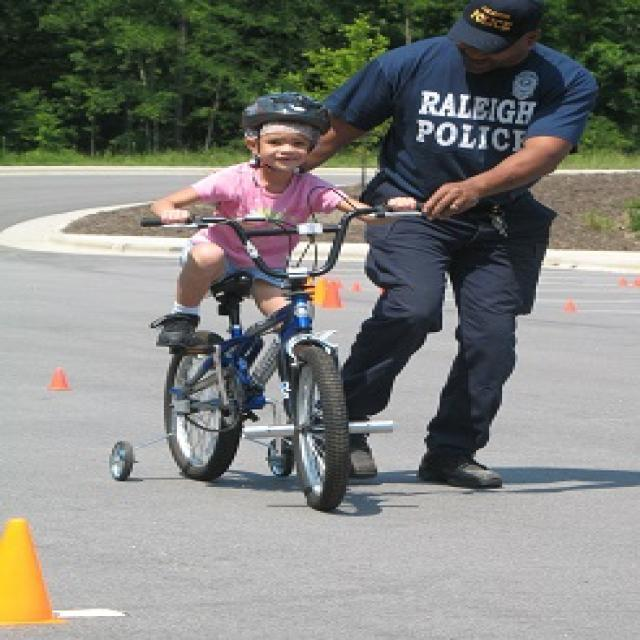Helmet: (232, 92, 336, 172)
